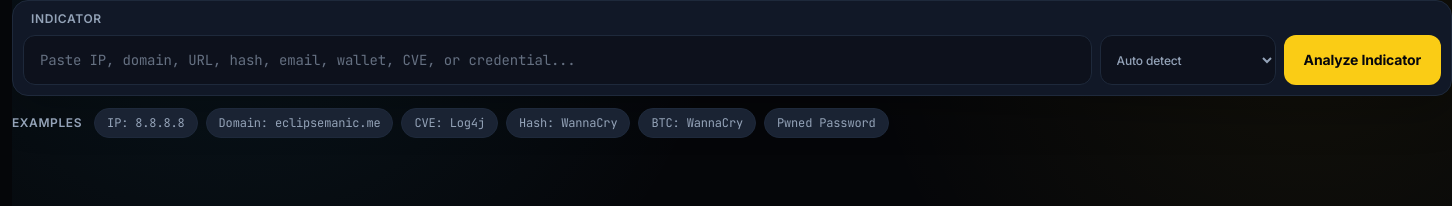
Test: SearchBar › does not auto-submit ambiguous credential input S3cret!
Step 1. Replace the text in the field named "Search IOC" with "S3cret!" → (557, 60), box x1=23 y1=35 x2=1092 y2=85
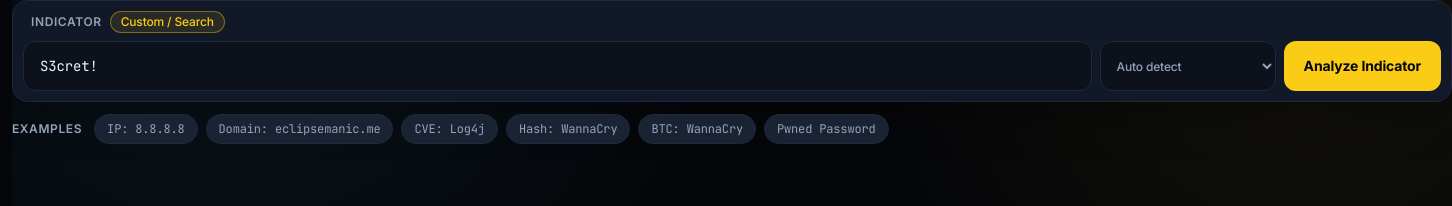
Step 2. Click the button with aria-label "Submit search" → (1362, 66), box x1=1284 y1=41 x2=1441 y2=91
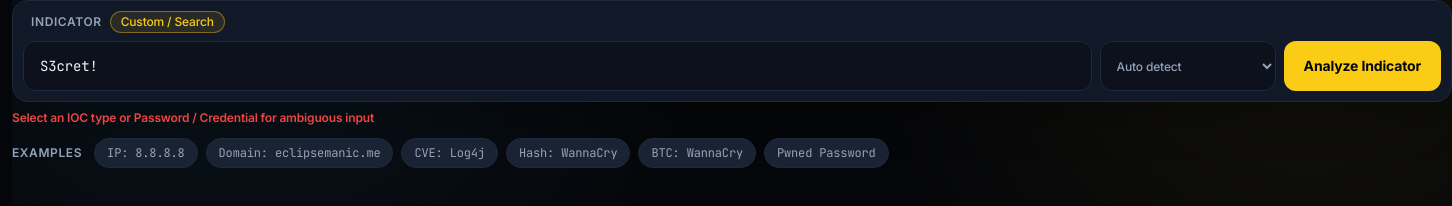
Expected: the text "Select an IOC type or Password / Credential for ambiguous input" is shown, x1=12 y1=110 x2=374 y2=125
